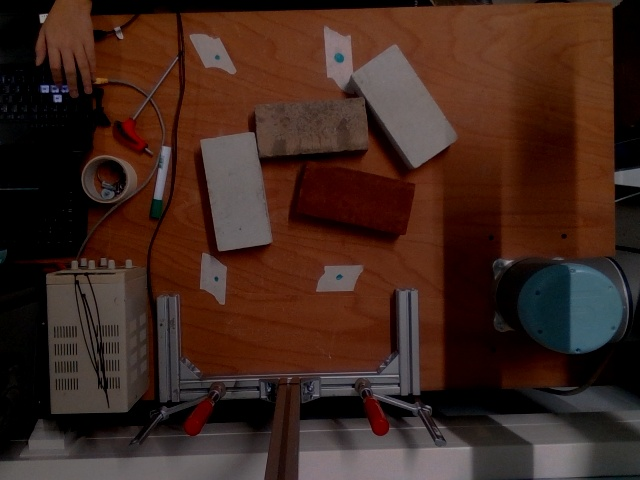brick: (352, 45, 458, 166), (298, 160, 416, 236), (199, 133, 270, 250), (253, 94, 366, 156)
